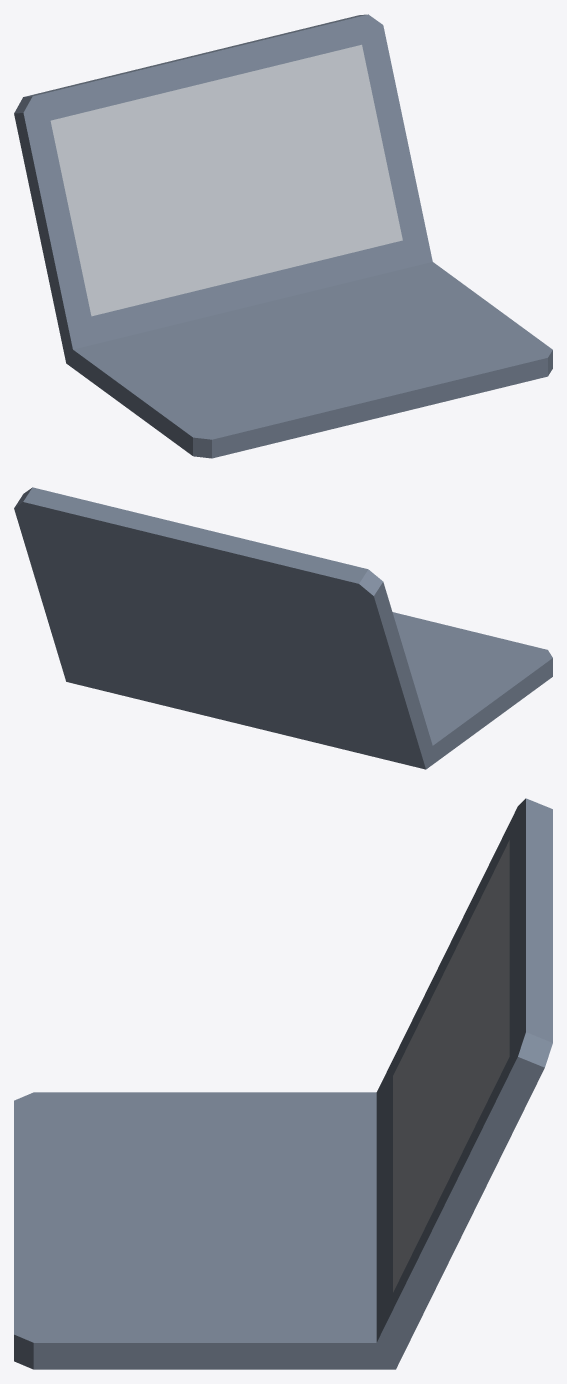
Rendered from laptop.glb.
3 views of the same model, one above another, from view 1: azimuth 30°, elevation 25°; view 2: azimuth 150°, elevation 25°; view 3: azimuth 270°, elevation 25° (orthographic). The views are drawn at different scales.
Parts seen in each view (by area): view 1: laptop(Clone); view 2: laptop(Clone); view 3: laptop(Clone).
Boxes of the visible parts, left/top/right/bottom form: laptop(Clone): left=14, top=14, right=552, bottom=458; laptop(Clone): left=14, top=487, right=552, bottom=769; laptop(Clone): left=14, top=798, right=552, bottom=1369.
Bounding box in the file's own units: 0.9 × 0.5516 × 0.8184.
